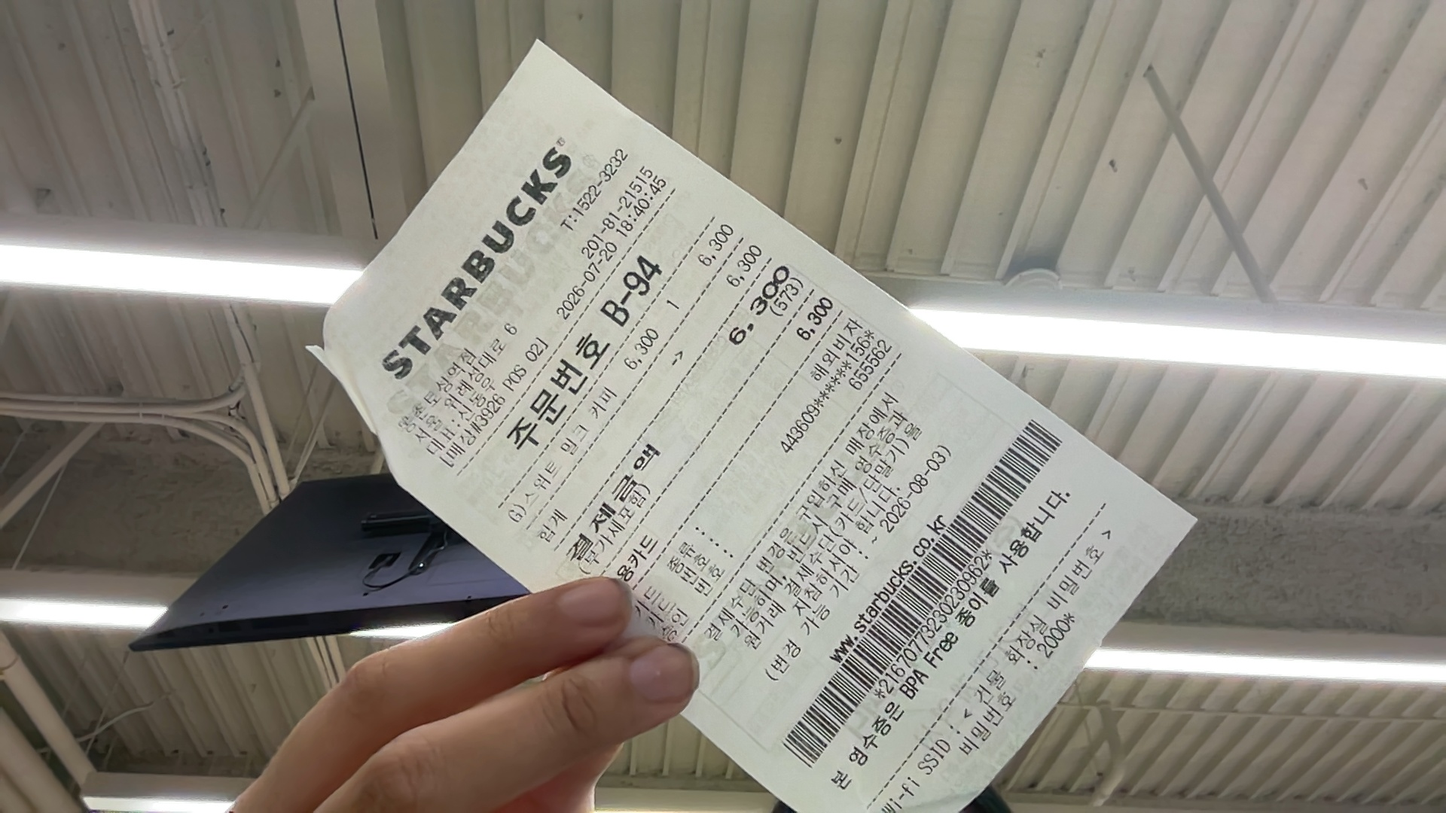Paper: (301, 23, 1298, 813)
